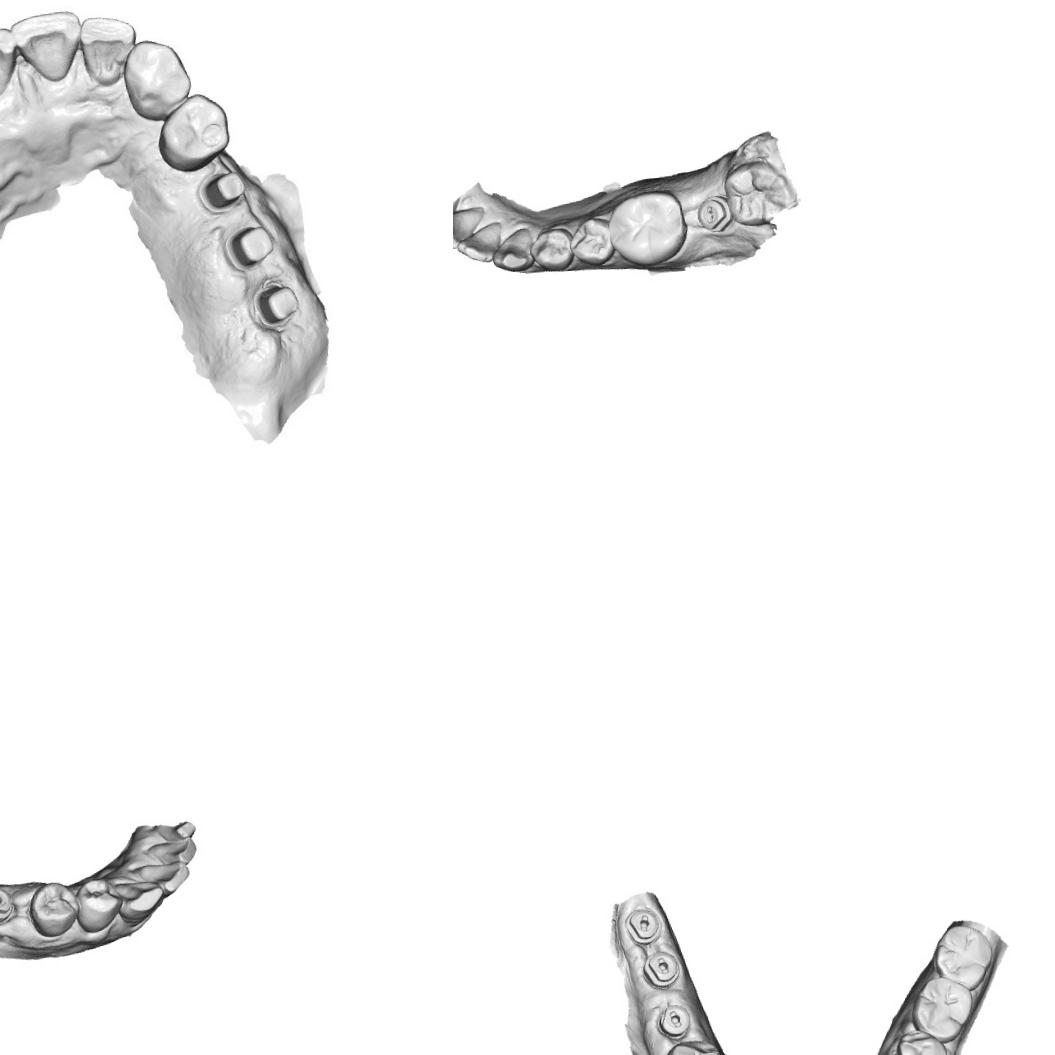abutment: (225, 219, 280, 277), (199, 165, 252, 219), (252, 272, 300, 327)
canine: (117, 32, 197, 122), (112, 877, 166, 927), (488, 225, 536, 275)
implant_minus: (638, 947, 684, 991), (621, 904, 664, 948), (650, 1002, 694, 1044), (694, 192, 733, 235), (0, 883, 14, 926)
incisor: (10, 9, 81, 82), (77, 11, 143, 89), (453, 218, 505, 265), (133, 858, 192, 896), (145, 836, 198, 868), (453, 204, 488, 250), (150, 820, 196, 844), (0, 26, 15, 95)
molar: (604, 187, 690, 270), (720, 156, 796, 228), (906, 972, 978, 1047), (928, 920, 998, 994)
premolar: (154, 93, 235, 176), (24, 878, 81, 938), (74, 873, 124, 934), (565, 214, 616, 268), (526, 224, 574, 274), (891, 1026, 951, 1055), (656, 1036, 727, 1055)
